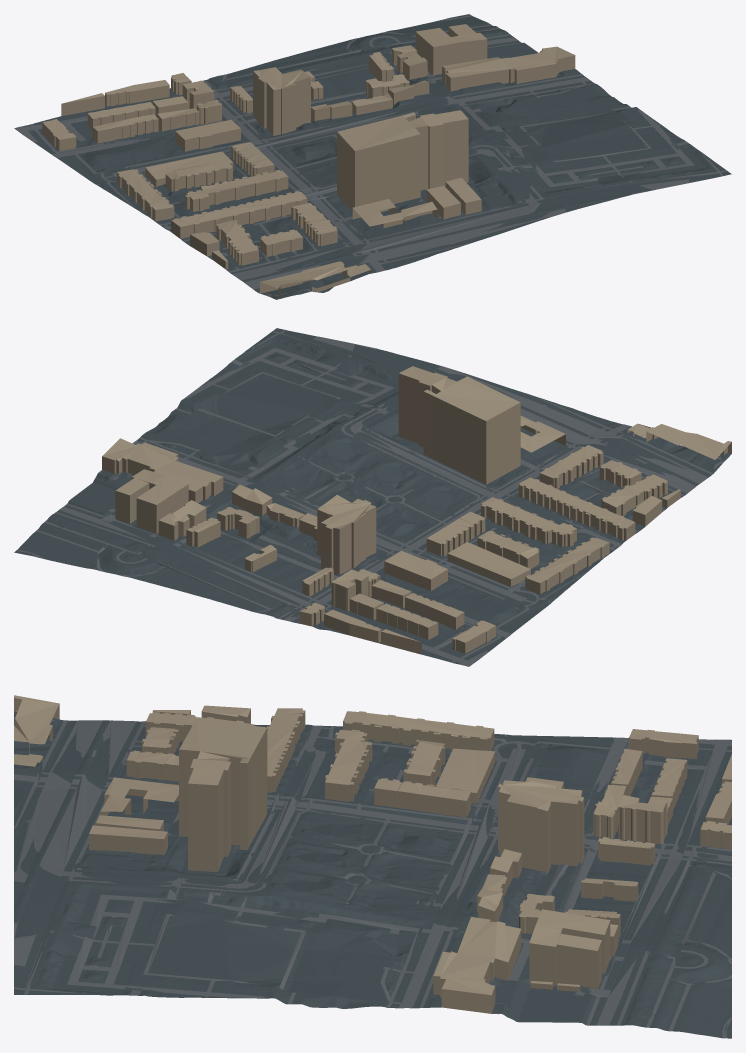
Rendered from epsg26910-1433-10890.lod0.glb.
3 renders of one model, top to bottom at view 1: azimuth 30°, elevation 25°; view 2: azimuth 150°, elevation 25°; view 3: azimuth 270°, elevation 25°, orthographic. The views are drawn at different scales.
Parts seen in each view (by area): view 1: epsg26910-1433-10890-lod0; view 2: epsg26910-1433-10890-lod0; view 3: epsg26910-1433-10890-lod0.
Part boxes in pixels (bbox=[...]): epsg26910-1433-10890-lod0: bbox=[14, 14, 731, 299]; epsg26910-1433-10890-lod0: bbox=[14, 328, 731, 666]; epsg26910-1433-10890-lod0: bbox=[14, 695, 731, 1038].
Bounding box in the file's own units: 384 × 75.12 × 384.
